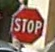stop: (9, 5, 43, 44)
